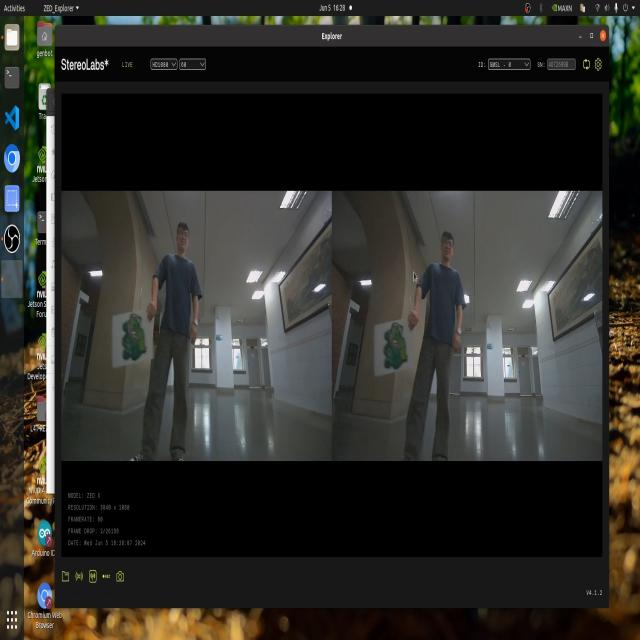green: (379, 322, 409, 376), (122, 316, 150, 350)
